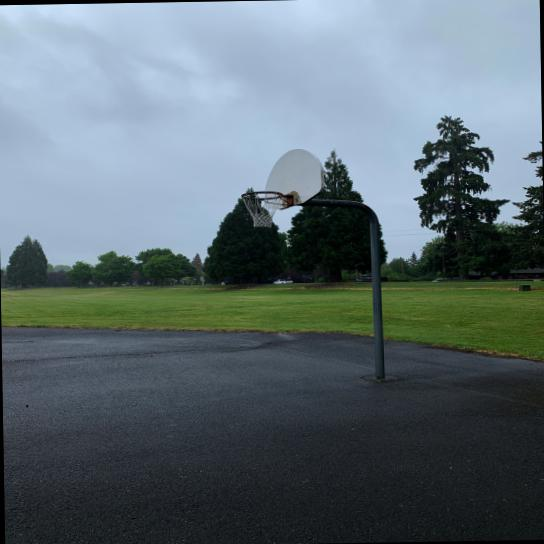basketball-hoop: (240, 189, 286, 228)
